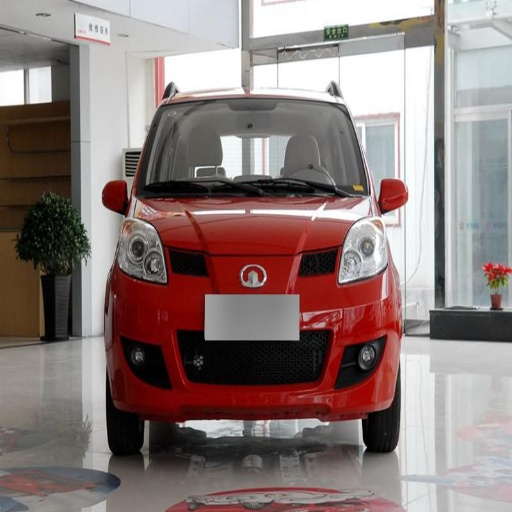front_bumper: (115, 246, 400, 423)
front_right_light: (117, 225, 167, 285)
hood: (132, 196, 376, 254)
